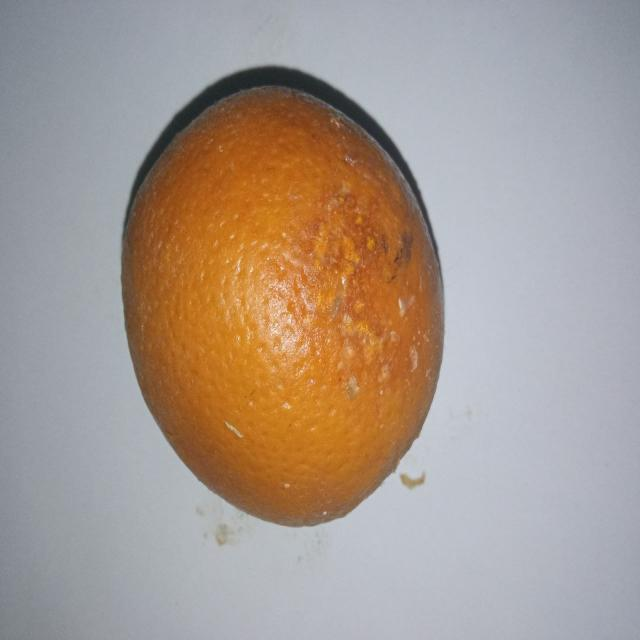rotten_orange: (120, 85, 442, 529)
